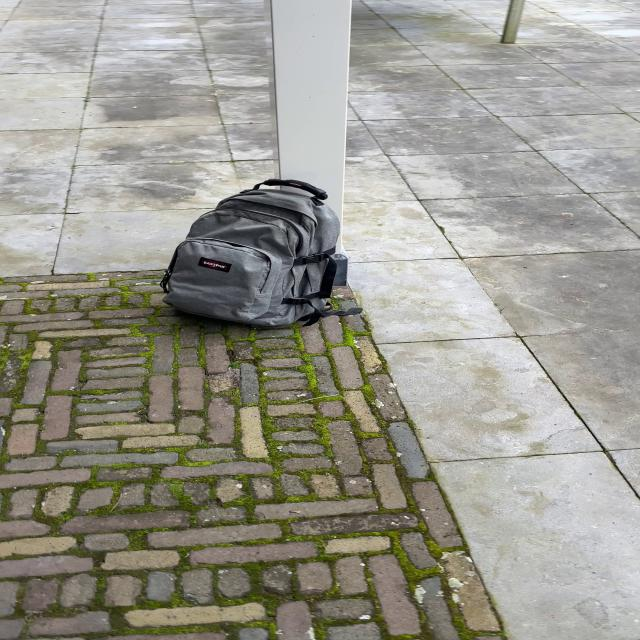backpack: (154, 175, 358, 335)
